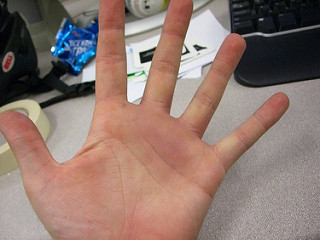palm: (69, 119, 207, 229)
